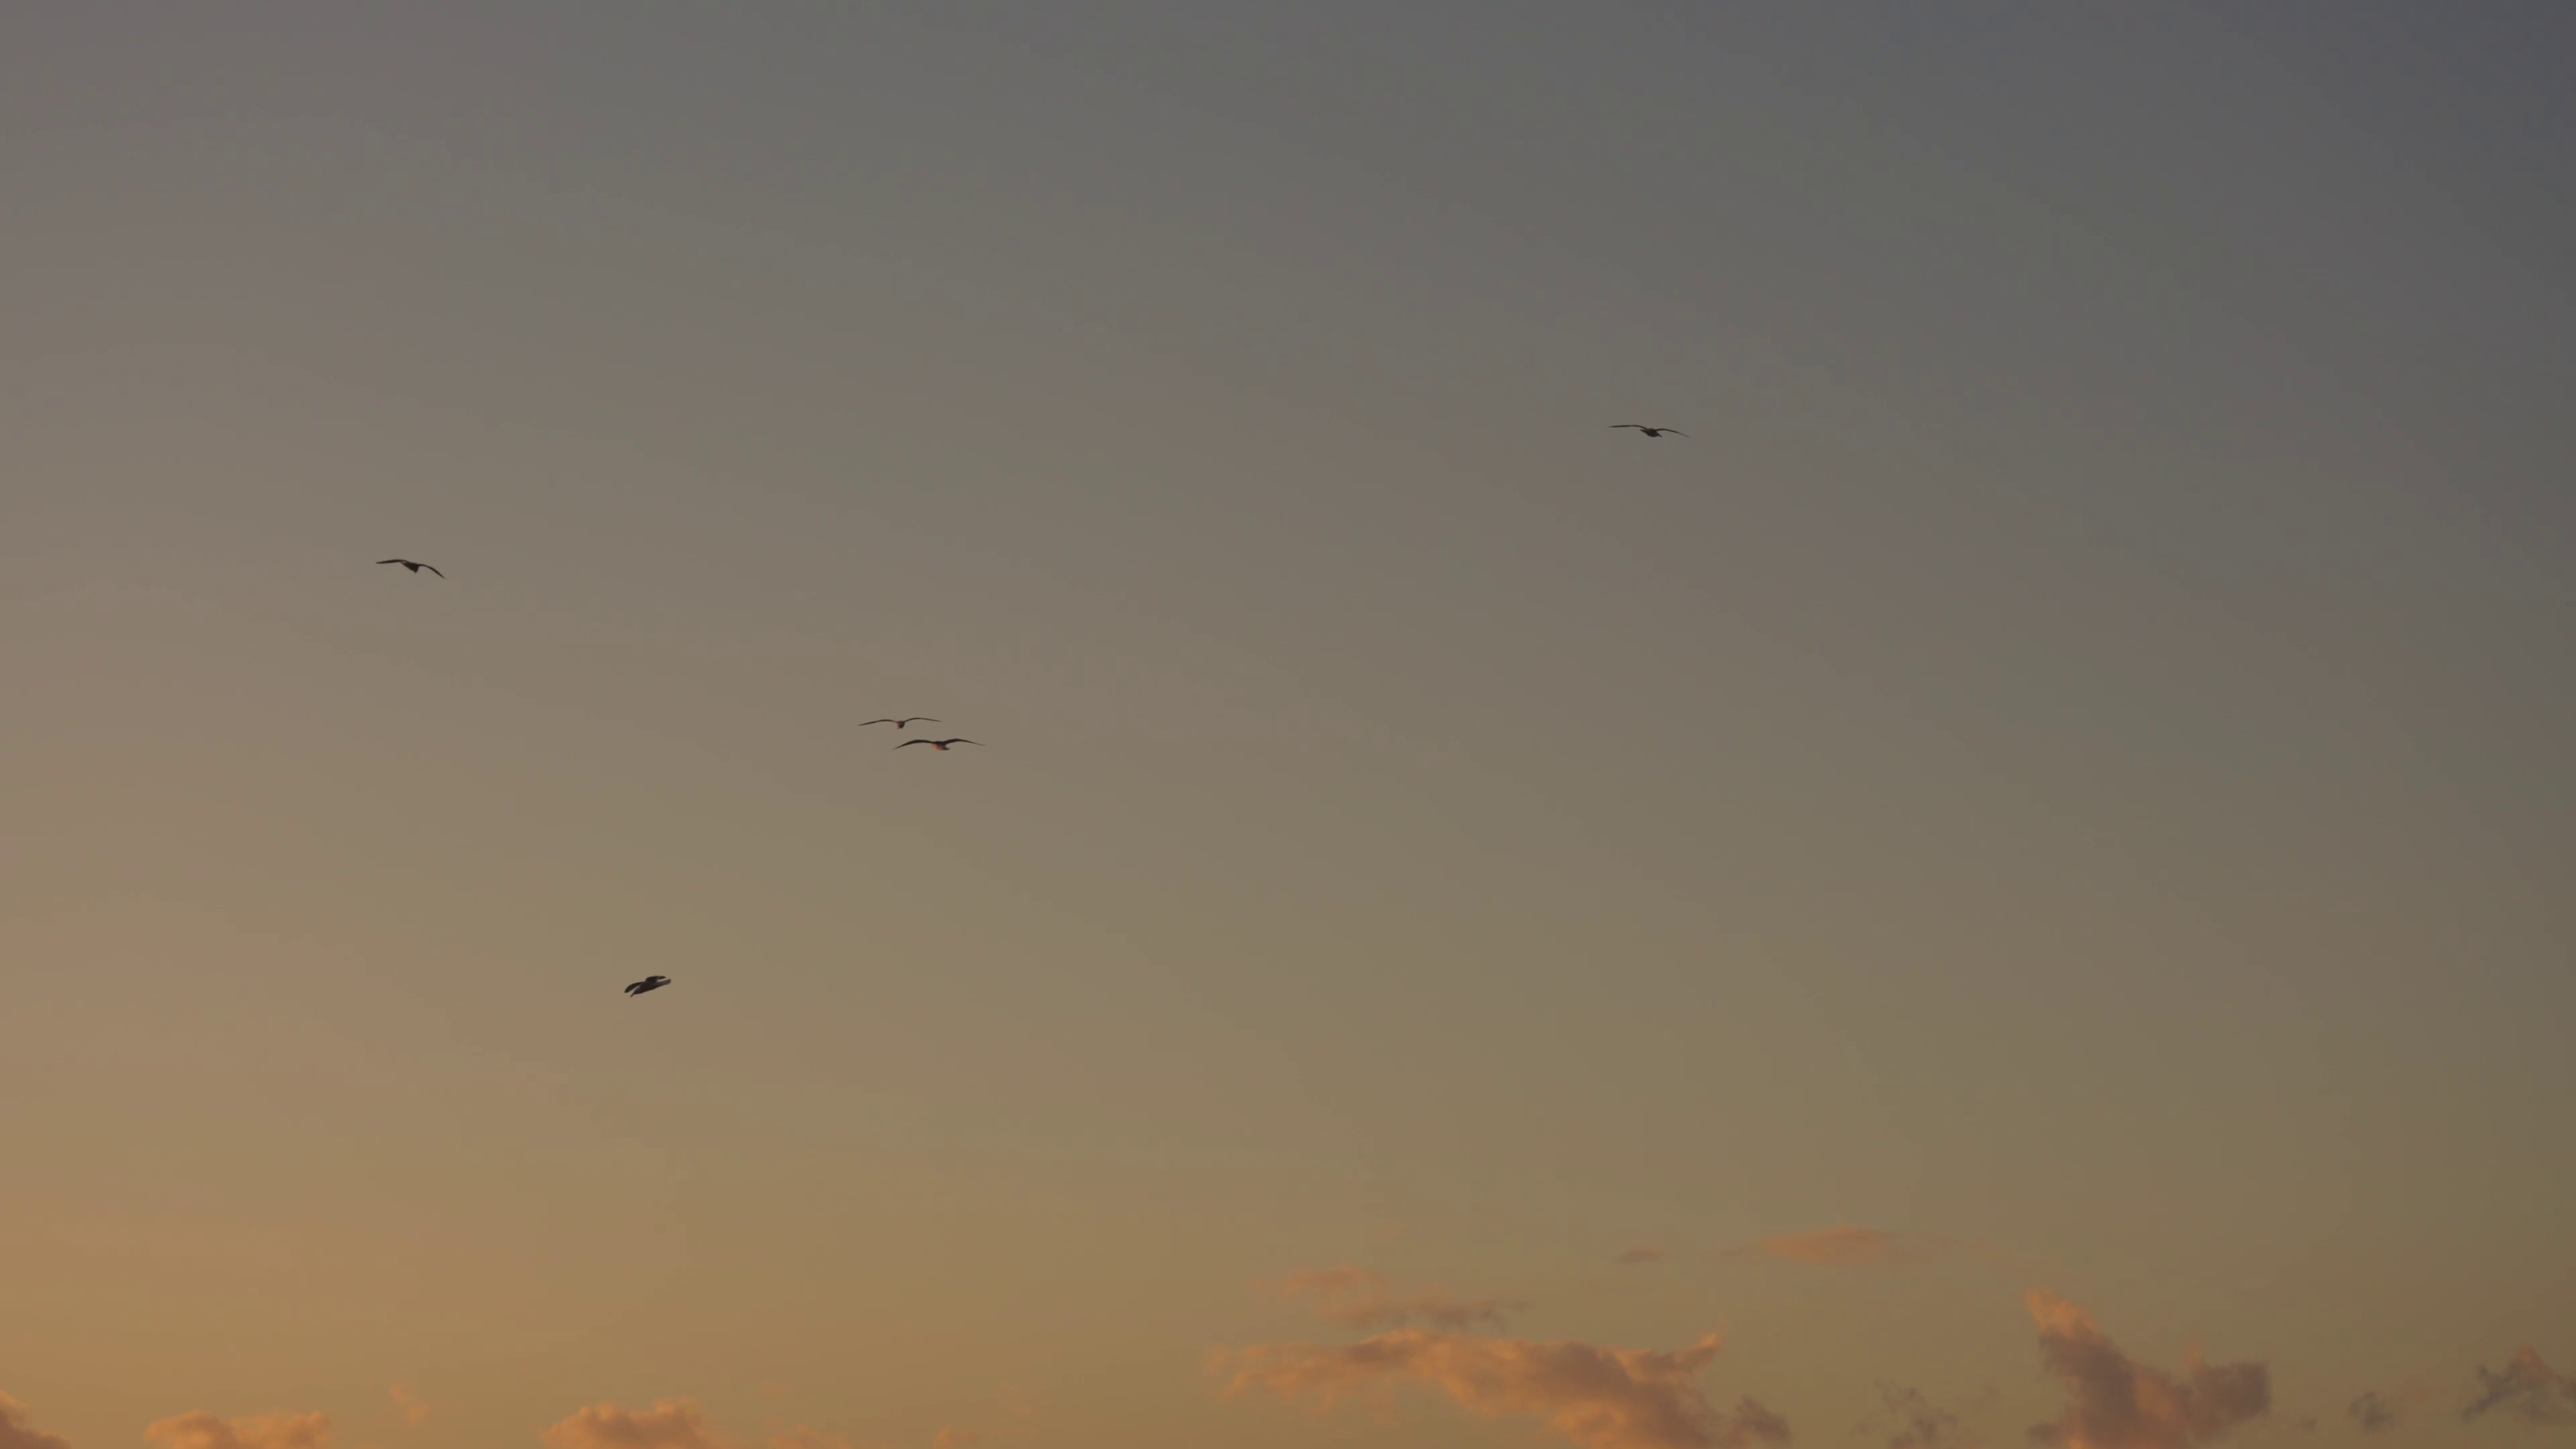bird: (1614, 416, 1691, 444), (372, 554, 448, 582), (860, 708, 936, 732), (897, 734, 982, 755), (621, 970, 674, 1000)
